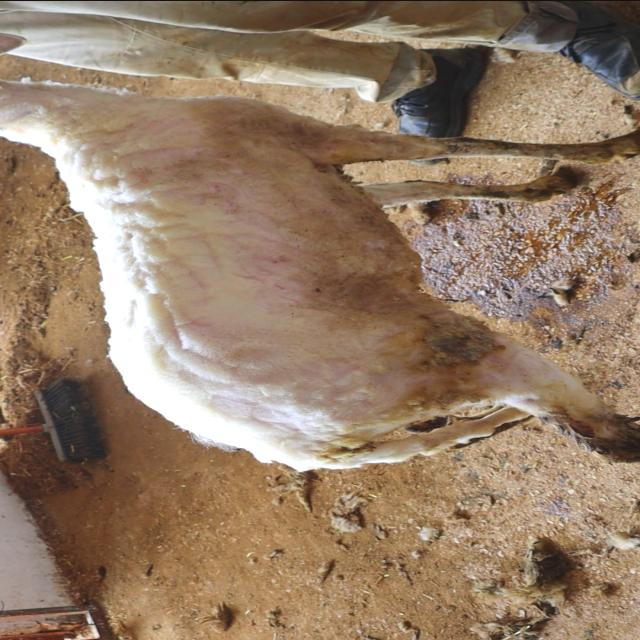Score_5: (0, 79, 639, 471)
